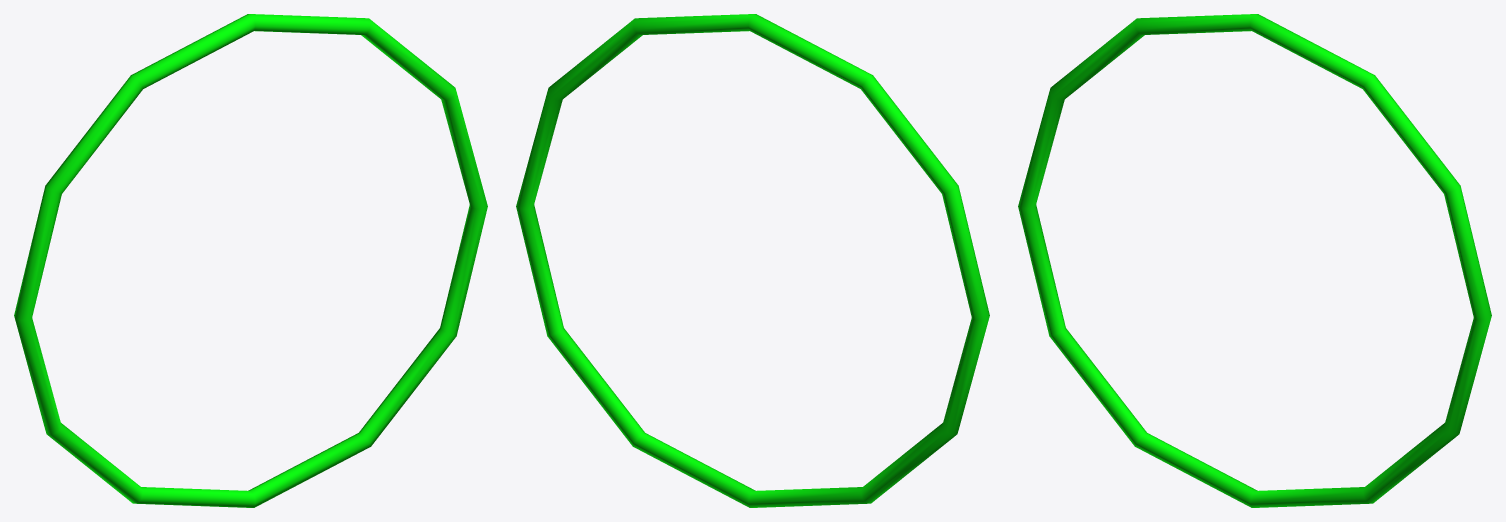
The model's file is RingZ.obj.
3 views of the same model, side by side, from view 1: azimuth 30°, elevation 25°; view 2: azimuth 150°, elevation 25°; view 3: azimuth 330°, elevation 25° (orthographic).
Visible parts, largest first — view 1: RotZ; view 2: RotZ; view 3: RotZ.
Part boxes in pixels (bbox=[...]): RotZ: bbox=[14, 14, 487, 507]; RotZ: bbox=[516, 14, 989, 507]; RotZ: bbox=[1018, 14, 1491, 507].
Size of the model in its own units: 2.9 by 2.9 by 0.1.
